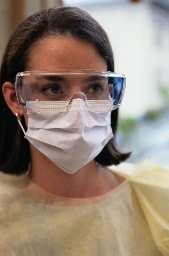correctlyWear: (1, 63, 125, 175)
